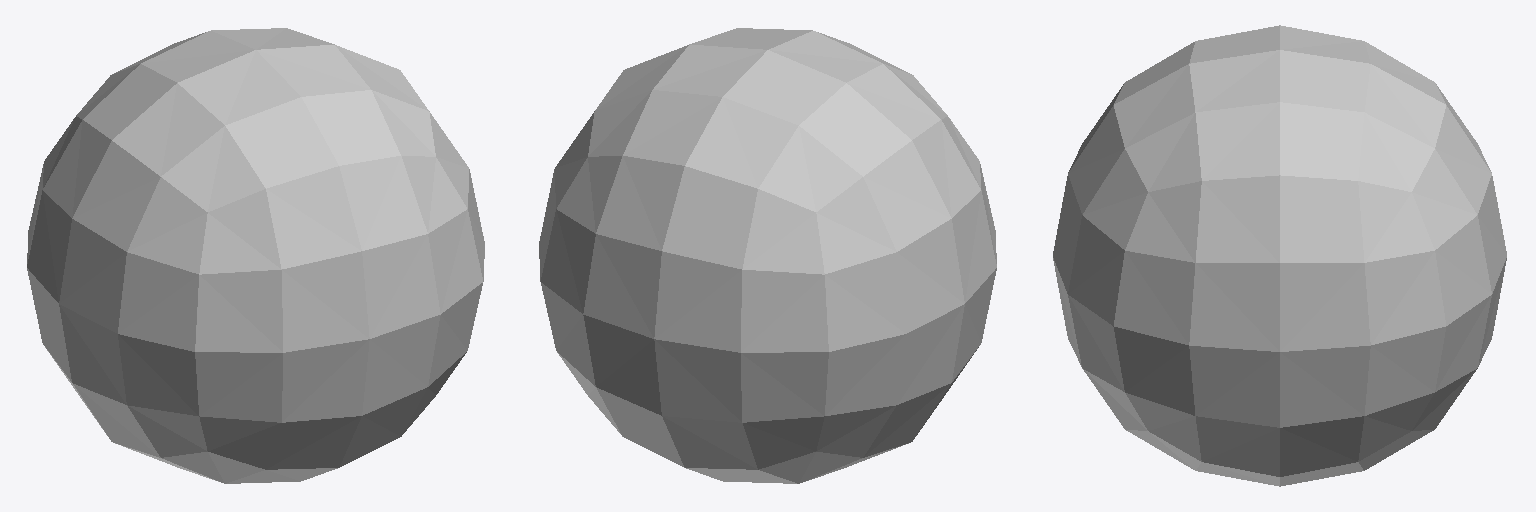
The model's file is mLamp.obj.
The picture shows the model from 3 angles: view 1: azimuth 30°, elevation 25°; view 2: azimuth 150°, elevation 25°; view 3: azimuth 270°, elevation 25°; orthographic projection.
Size of the model in its own units: 0.5476 by 0.5476 by 0.5476.